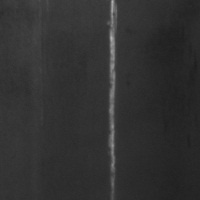scratches: (102, 1, 121, 200)
